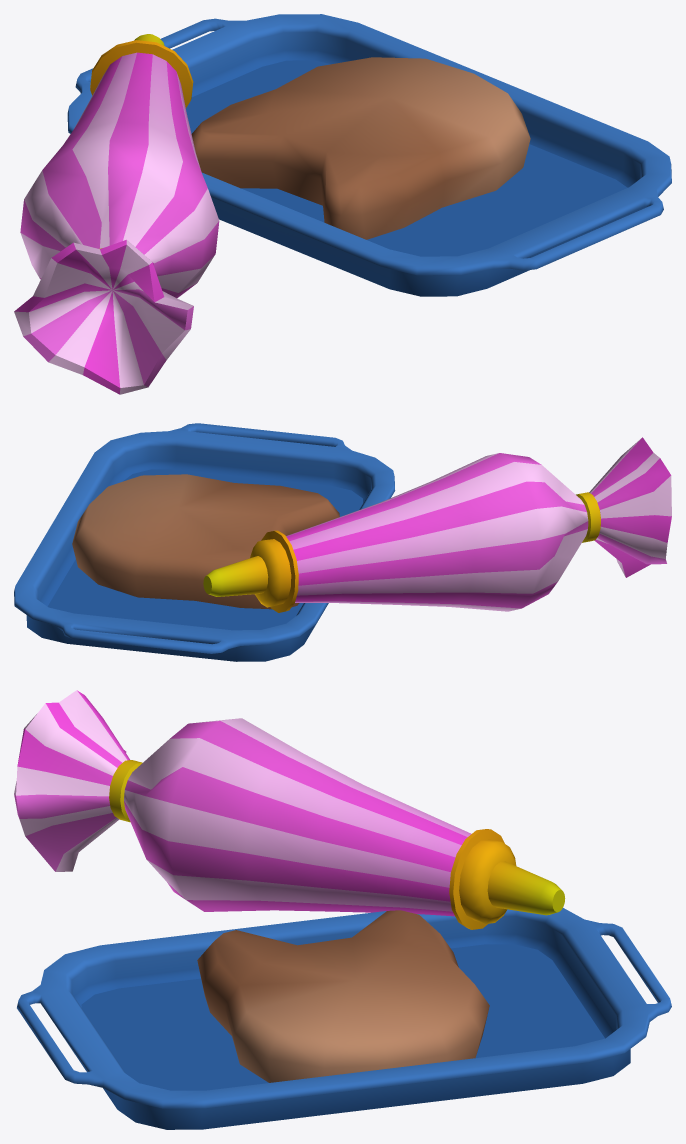
Rendered from Station Cat Cookie.fbx.
3 views of the same model, one above another, from view 1: azimuth 30°, elevation 25°; view 2: azimuth 150°, elevation 25°; view 3: azimuth 270°, elevation 25° (orthographic). The views are drawn at different scales.
Visible parts, largest first — view 1: Station_Cat_Cookie; view 2: Station_Cat_Cookie; view 3: Station_Cat_Cookie.
Boxes of the visible parts, box(x1,y1,x2,y2) form: Station_Cat_Cookie: box(14, 14, 671, 394); Station_Cat_Cookie: box(14, 423, 671, 661); Station_Cat_Cookie: box(14, 690, 671, 1129).
Bounding box in the file's own units: 42.34 × 11 × 36.09.
